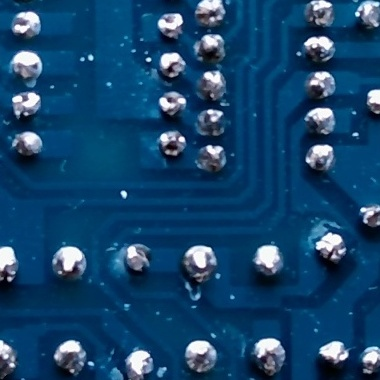?: (305, 34, 338, 66), (122, 244, 153, 276), (195, 35, 225, 65), (197, 144, 228, 172), (9, 93, 43, 118), (198, 108, 227, 135), (157, 52, 187, 78), (307, 144, 336, 170), (0, 246, 18, 285)
drag: (252, 336, 287, 375), (362, 203, 380, 228)
little: (156, 87, 187, 115), (306, 71, 337, 99), (160, 129, 188, 157), (157, 11, 182, 39), (357, 345, 380, 375)
norm: (52, 246, 88, 280), (55, 338, 87, 374), (186, 339, 218, 375), (183, 245, 216, 279), (195, 72, 229, 102), (9, 52, 45, 80), (307, 106, 339, 137), (254, 244, 284, 277), (12, 130, 47, 158), (355, 0, 380, 33), (194, 0, 226, 25), (0, 338, 17, 377), (366, 88, 380, 114), (154, 0, 185, 2)
tip: (314, 229, 349, 263), (13, 9, 44, 39), (126, 348, 155, 380), (303, 0, 335, 29)
